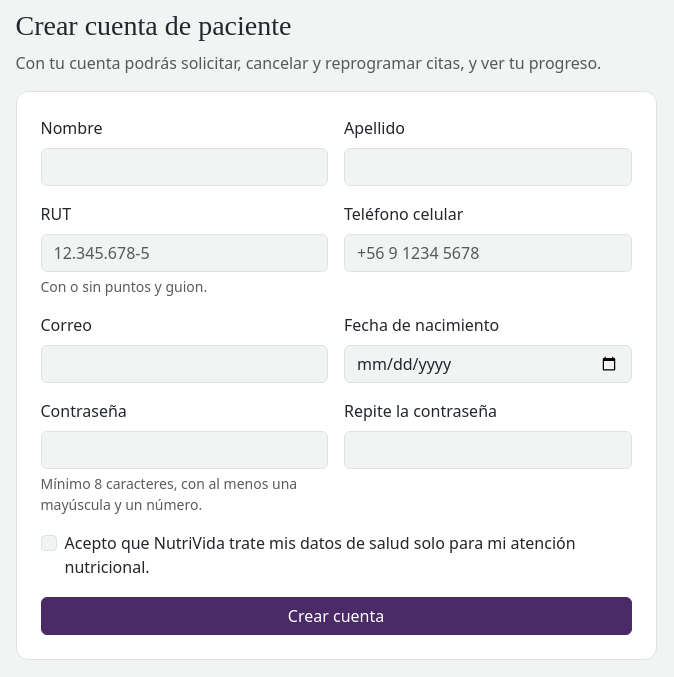
it: Registro › con el formulario vacío muestra un error bajo cada campo y no crea la cuenta
This screenshot has width=674, height=677.
Click the button "Crear cuenta".
click(336, 616)  # box [40,597,632,635]
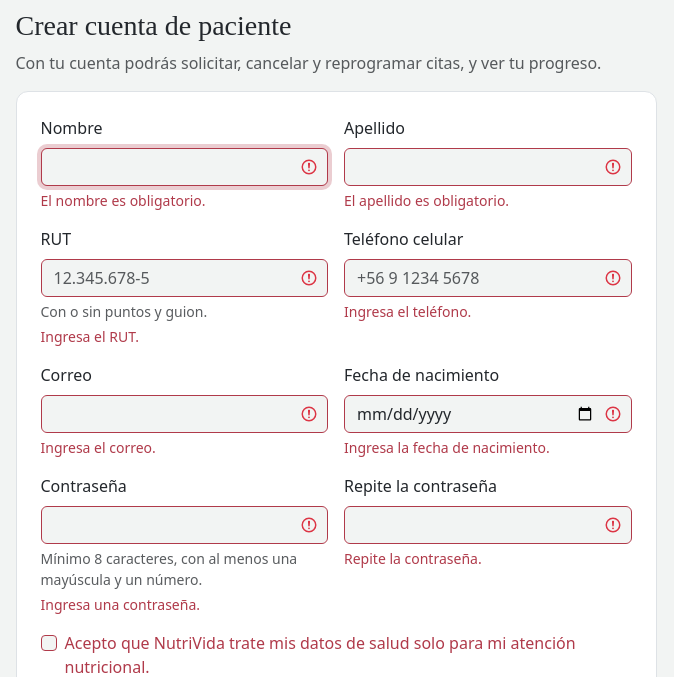
Now the number of messages is 9
Now the text "Ingresa el RUT." is shown, box [40,327,139,346]
